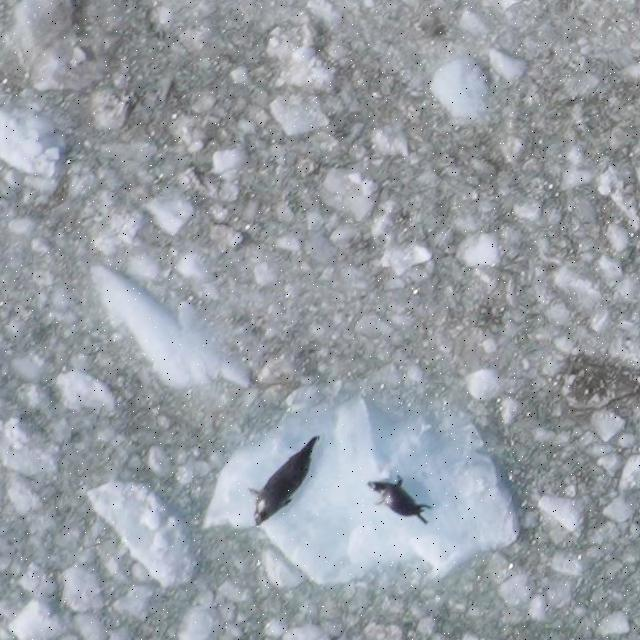seal: (232, 434, 340, 529), (359, 464, 439, 528)
